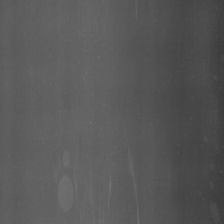silk_spot: (55, 141, 78, 214), (83, 173, 118, 215), (127, 145, 139, 189)
